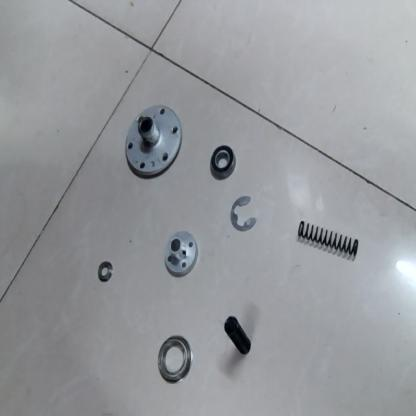FOD: (122, 100, 185, 180), (294, 217, 364, 261), (154, 331, 196, 387), (163, 229, 200, 279), (220, 312, 256, 360), (227, 192, 257, 233), (208, 143, 240, 181), (94, 260, 116, 286)
